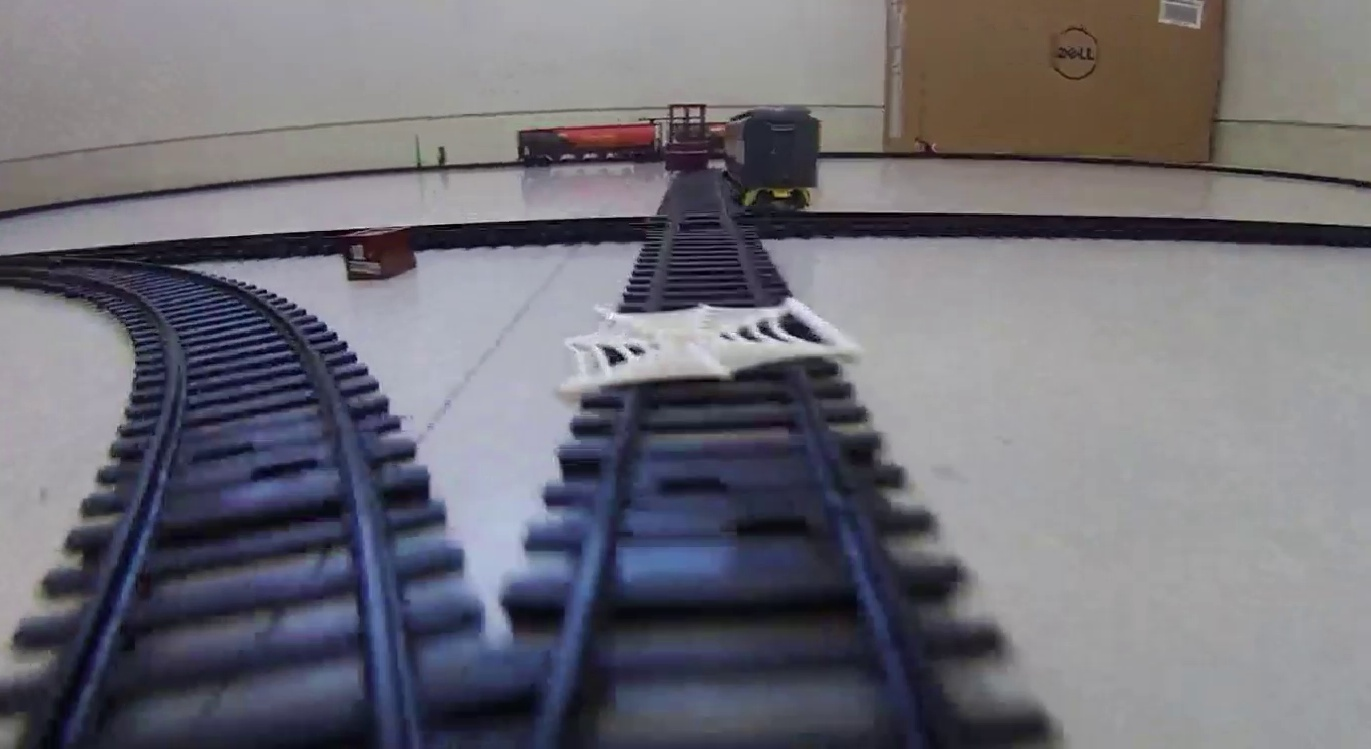box: (343, 227, 417, 280)
web: (565, 297, 855, 398)
